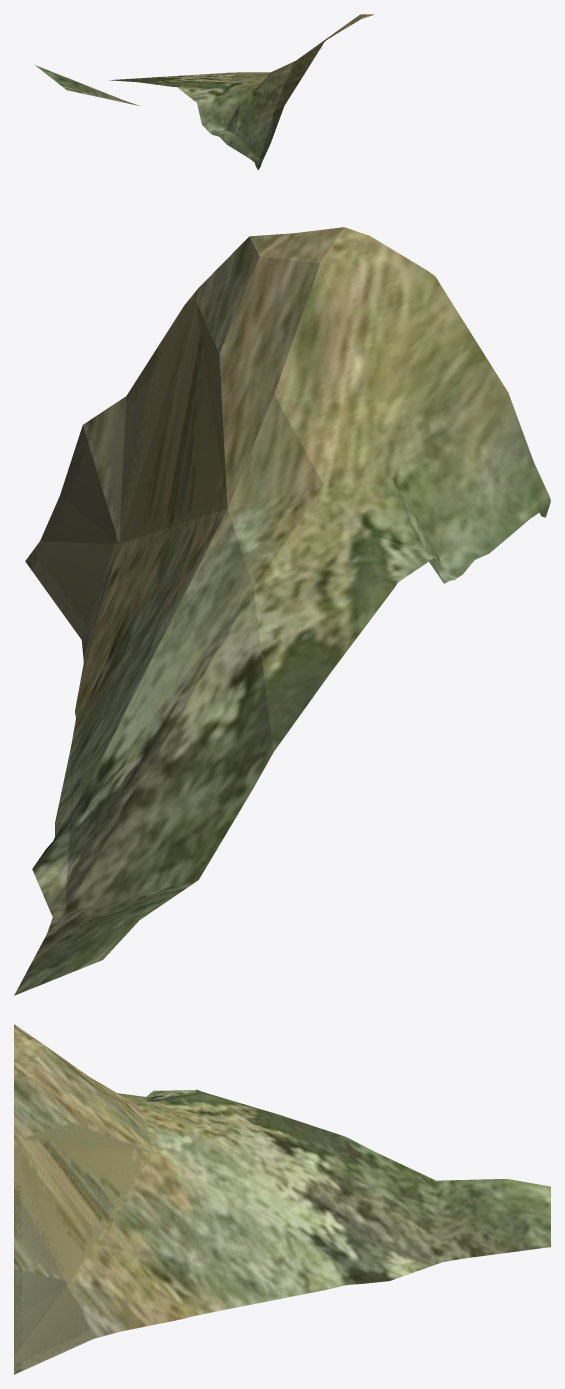
3 renders of one model, top to bottom at view 1: azimuth 30°, elevation 25°; view 2: azimuth 150°, elevation 25°; view 3: azimuth 270°, elevation 25°, orthographic. The views are drawn at different scales.
Size of the model in its own units: 7.99 by 5.99 by 11.8.
2 materials, 2 textured.
